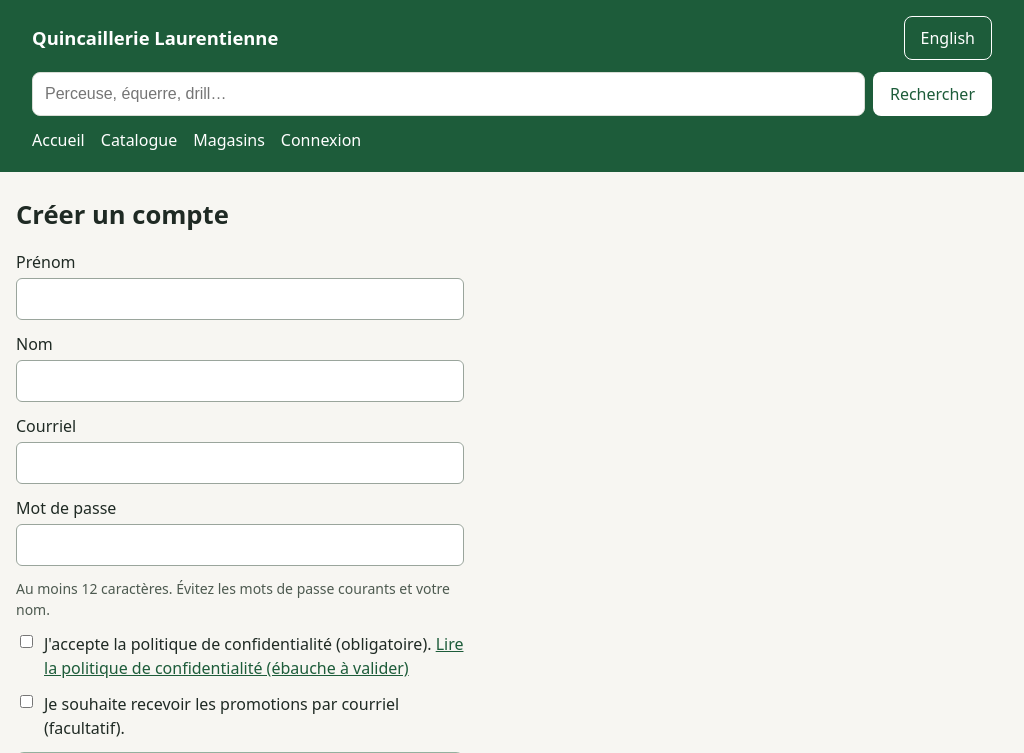
Scenario: Inscription (A-AUTH-01) › affiche l'erreur traduite de la politique de mot de passe
Type "Marie" into the field labelled "Prénom" at (240, 299), box [16,278,464,320]
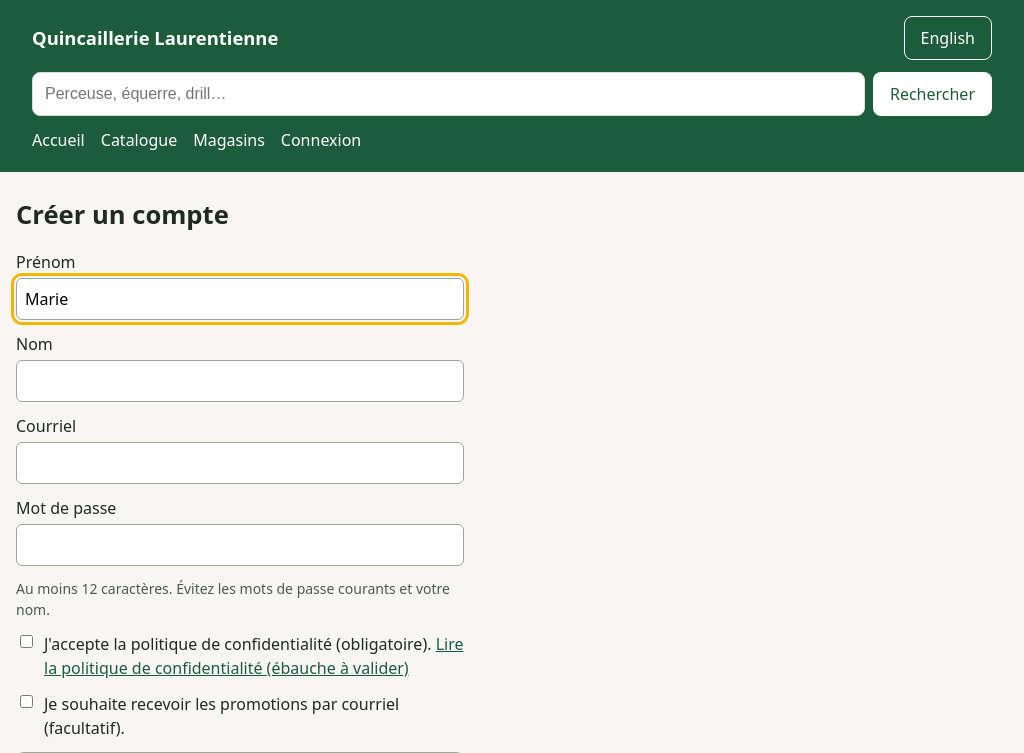
Type "Tremblay" into the field labelled "Nom" at (240, 381), box [16,360,464,402]
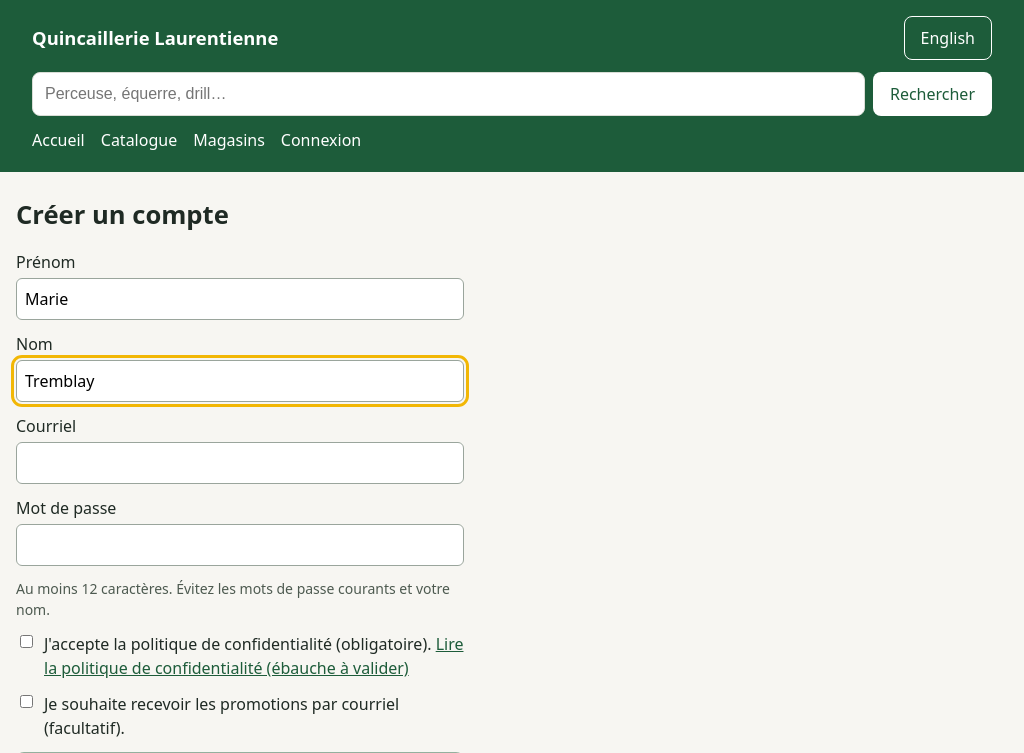
Type "marie@example.com" into the field labelled "Courriel" at (240, 463), box [16,442,464,484]
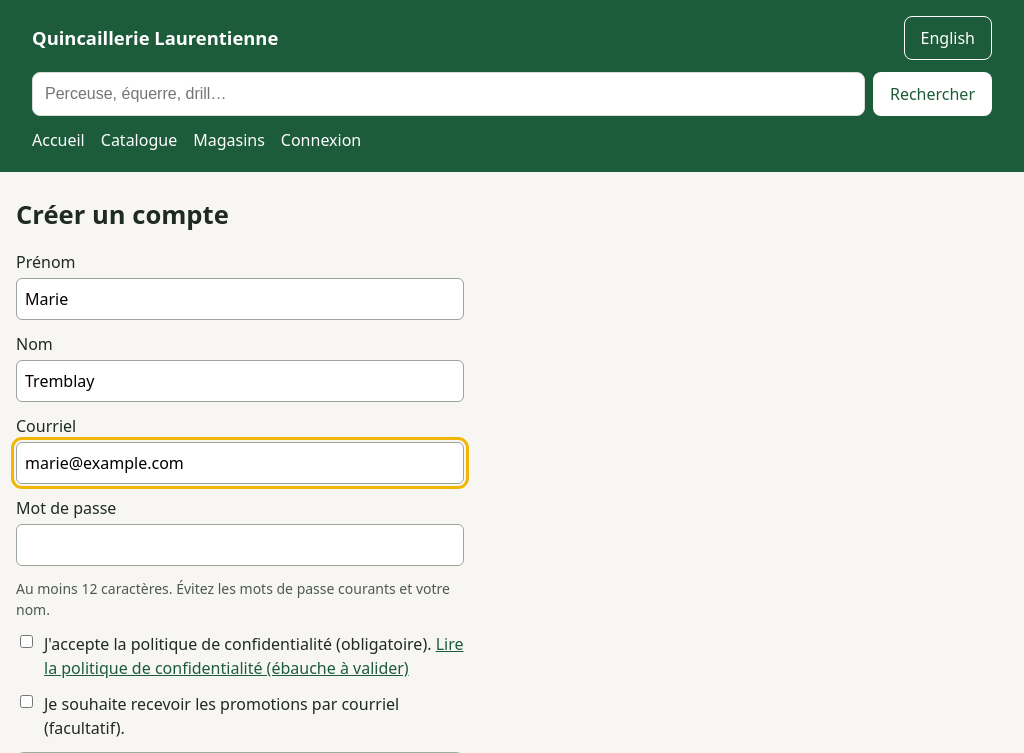
Type "court" into the password field labelled "Mot de passe" at (240, 545), box [16,524,464,566]
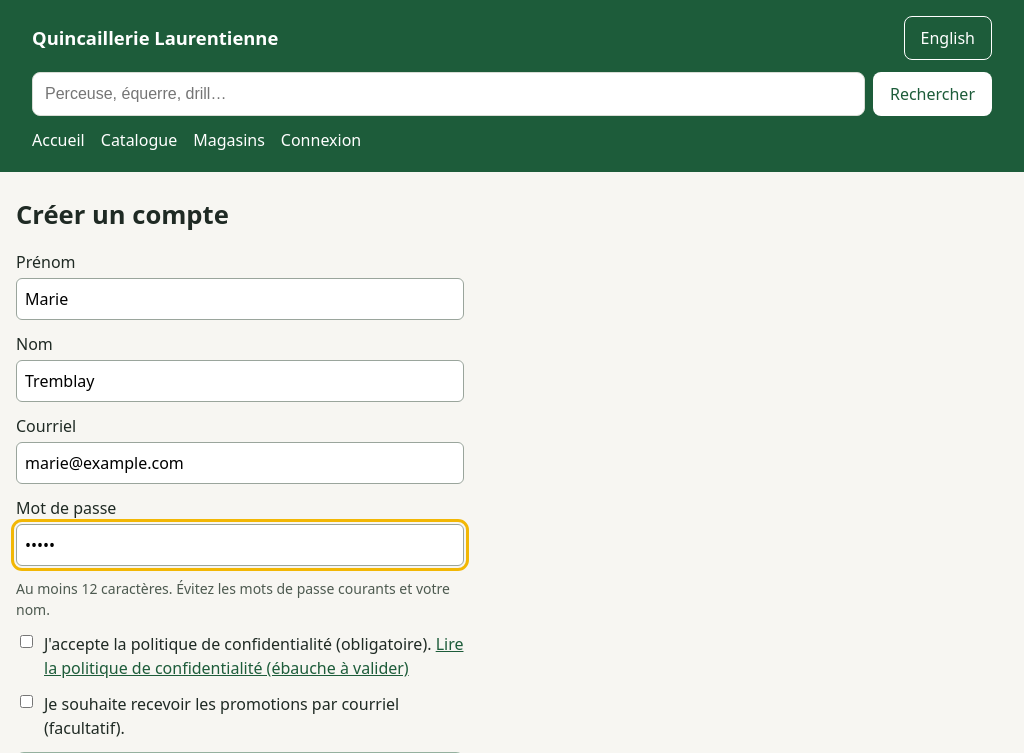
Click the checkbox labelled "politique de confidentialité" at (26, 642), box [20,635,33,648]
(page scrolled)
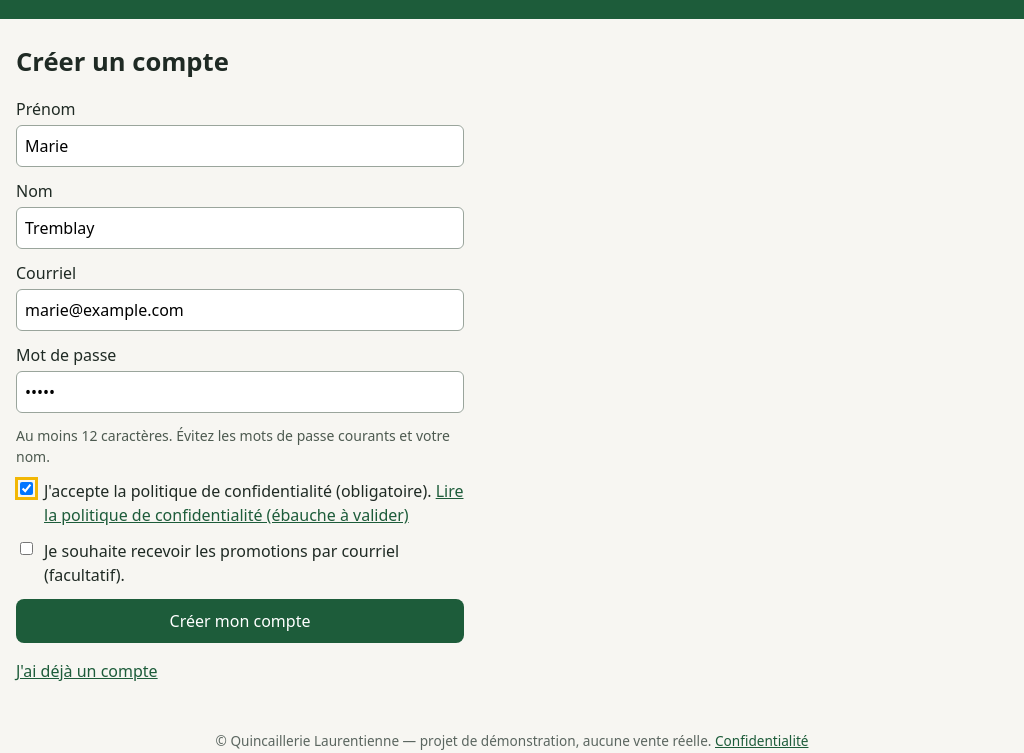
Click the button "Créer mon compte" at (240, 621), box [16,599,464,643]
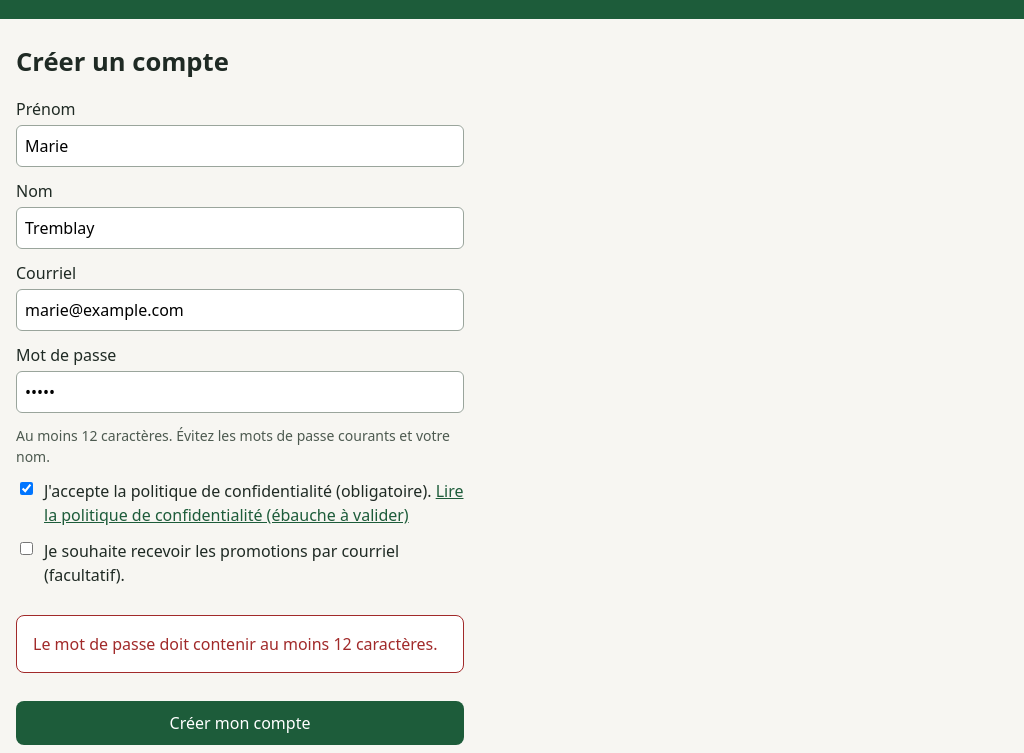
Now the message shows "au moins 12 caractères", box [33,633,438,655]
